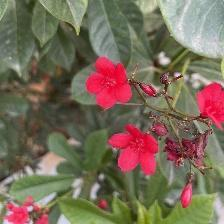jatropha: (111, 123, 159, 178), (86, 58, 133, 111)
